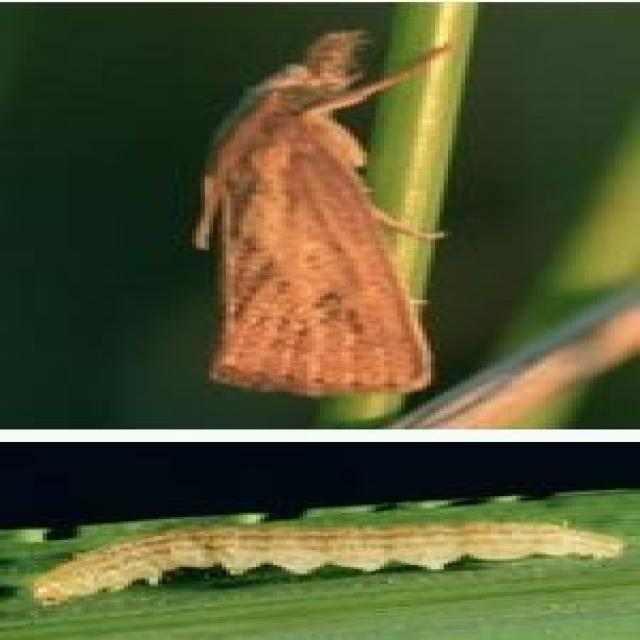stem borer: (192, 31, 454, 397), (31, 515, 622, 604)
